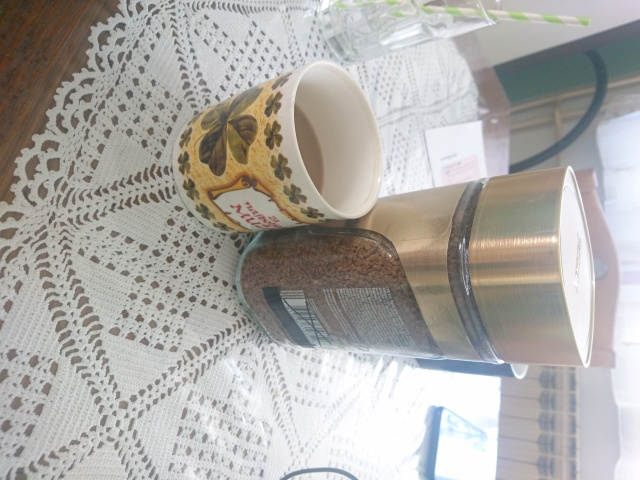Nescafe Gold 225g: (230, 163, 599, 372)
